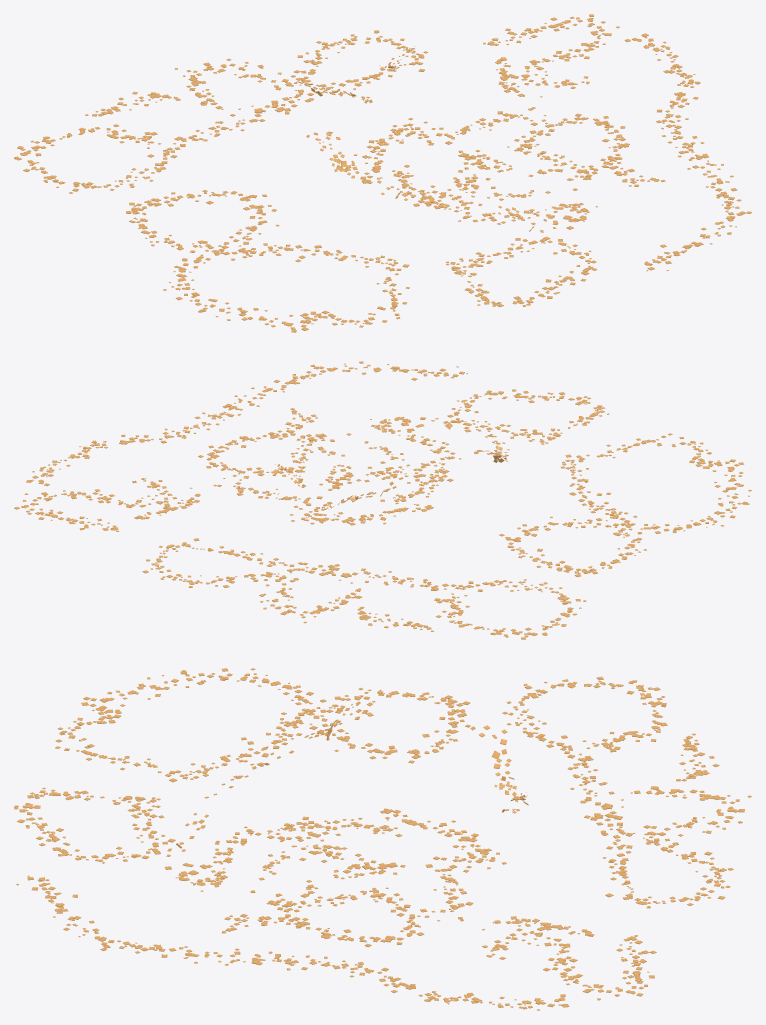
File: dirty.glb
3 renders of one model, top to bottom at view 1: azimuth 30°, elevation 25°; view 2: azimuth 150°, elevation 25°; view 3: azimuth 270°, elevation 25°, orthographic. The views are drawn at different scales.
Size of the model in its own units: 29.24 by 3.08 by 26.62.
1 material, 1 textured.
